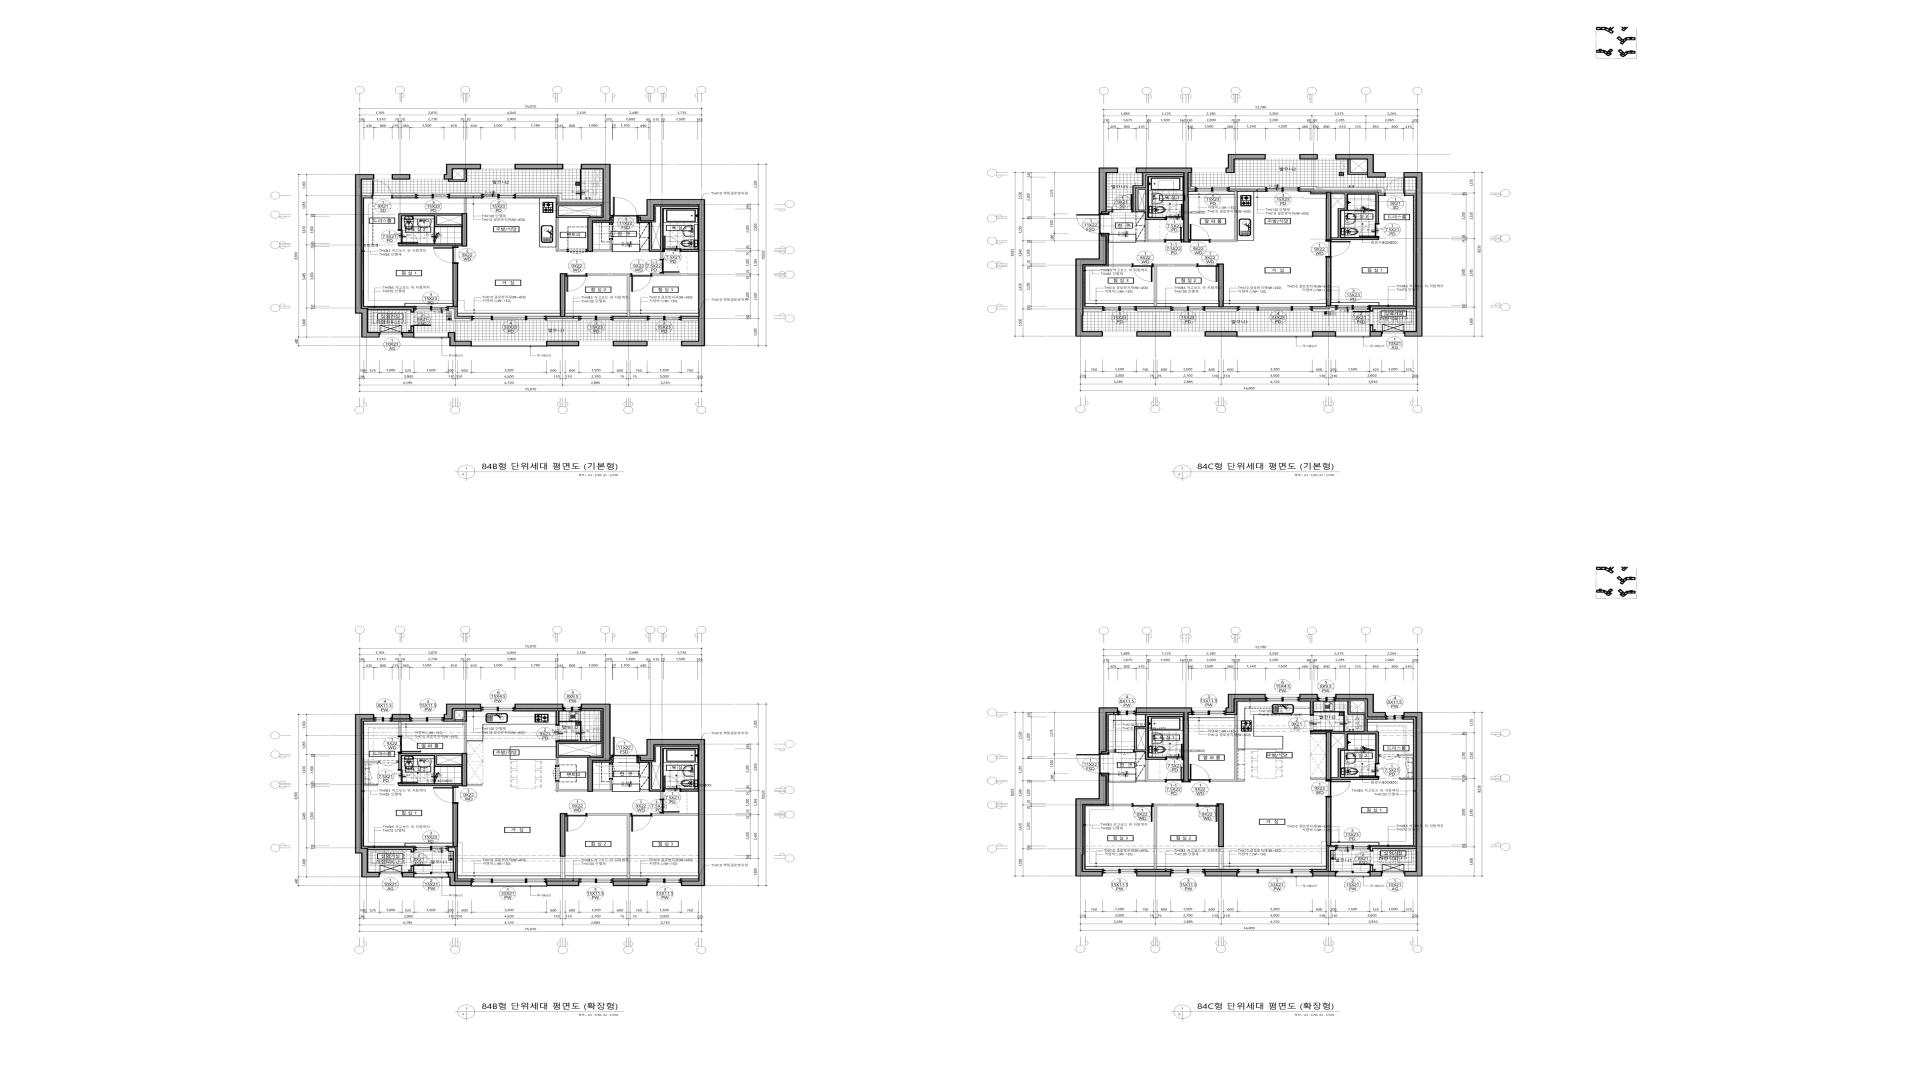door: (1076, 214, 1109, 233), (1076, 754, 1109, 774), (613, 196, 637, 218), (1325, 779, 1352, 798), (433, 786, 459, 804), (613, 737, 637, 757), (433, 247, 459, 264), (1325, 240, 1350, 257), (1188, 764, 1211, 782), (397, 736, 421, 753), (1385, 178, 1406, 196), (1197, 264, 1218, 282), (1133, 264, 1154, 282), (1112, 194, 1133, 212), (1189, 224, 1211, 243), (1197, 803, 1218, 822), (630, 814, 651, 832), (566, 814, 587, 832), (1133, 803, 1154, 822), (630, 273, 651, 291), (566, 273, 587, 291), (372, 181, 393, 199), (1309, 715, 1333, 731), (555, 725, 579, 741), (1353, 311, 1374, 326), (1353, 851, 1374, 865), (410, 852, 431, 866), (397, 769, 418, 783), (397, 229, 418, 244), (663, 775, 680, 793), (1166, 766, 1183, 783), (1166, 744, 1183, 761), (1164, 227, 1183, 243), (1360, 223, 1379, 237), (659, 799, 679, 814), (659, 260, 679, 274), (1166, 204, 1183, 220), (663, 236, 680, 252), (1360, 764, 1379, 777), (1379, 754, 1399, 760), (1114, 749, 1134, 754), (609, 764, 616, 779), (378, 761, 398, 766), (567, 249, 587, 255), (553, 766, 559, 781)
wall: (637, 199, 705, 347), (637, 738, 705, 886), (1135, 707, 1192, 782), (1135, 167, 1192, 243), (355, 174, 380, 338), (355, 713, 380, 877), (1134, 715, 1183, 782), (1403, 712, 1423, 877), (1135, 174, 1183, 243), (1075, 233, 1106, 336), (1075, 774, 1106, 877), (1403, 173, 1423, 336), (640, 746, 699, 799), (580, 164, 613, 252), (580, 704, 613, 793), (1332, 719, 1379, 779), (587, 814, 630, 878), (1154, 804, 1197, 869), (640, 207, 699, 252), (1332, 191, 1379, 240), (1211, 715, 1245, 782), (555, 204, 601, 252), (1154, 264, 1197, 306), (587, 274, 630, 316), (1211, 191, 1237, 243), (1336, 694, 1386, 717), (1336, 154, 1386, 178), (555, 741, 601, 766), (398, 214, 462, 229), (398, 753, 462, 769), (1098, 707, 1118, 754), (1098, 167, 1118, 214), (1225, 694, 1266, 713), (516, 193, 603, 202), (1225, 154, 1266, 173), (1300, 186, 1385, 194), (443, 164, 481, 179), (443, 704, 481, 720), (455, 711, 467, 753), (448, 332, 472, 347), (448, 872, 472, 886), (1325, 257, 1332, 306), (1325, 191, 1332, 240), (556, 781, 587, 791), (1325, 798, 1332, 845), (1325, 732, 1332, 779), (1348, 160, 1367, 175), (448, 309, 471, 322), (559, 273, 566, 316), (559, 814, 566, 857), (514, 164, 563, 169), (514, 704, 563, 709), (448, 169, 467, 182), (452, 264, 458, 307), (1218, 264, 1224, 307), (1218, 803, 1224, 847), (1348, 702, 1365, 715), (452, 804, 458, 847), (593, 779, 612, 791), (593, 240, 612, 252), (1328, 847, 1336, 872), (448, 848, 456, 872), (368, 307, 414, 311), (1370, 307, 1416, 311), (1370, 847, 1416, 851), (368, 848, 414, 852), (613, 342, 647, 347), (1204, 331, 1238, 336), (1137, 331, 1171, 336), (613, 881, 647, 886), (1137, 872, 1171, 877), (546, 342, 579, 347), (462, 214, 467, 247), (1205, 872, 1238, 877), (462, 753, 467, 786), (546, 881, 579, 886), (398, 244, 462, 247), (398, 783, 462, 786), (1312, 331, 1336, 336), (1312, 872, 1336, 877), (651, 814, 699, 816), (392, 713, 410, 720), (1218, 847, 1224, 869), (392, 174, 410, 179), (1229, 186, 1266, 189), (1299, 694, 1317, 699), (1299, 154, 1317, 160), (1137, 309, 1171, 311), (613, 319, 647, 322), (1313, 307, 1336, 311), (450, 193, 481, 195), (1205, 309, 1237, 311), (560, 857, 564, 878), (547, 319, 579, 322), (402, 332, 414, 338), (1109, 264, 1133, 266), (1370, 331, 1382, 336), (1370, 872, 1382, 877), (402, 872, 414, 877), (651, 274, 699, 276), (393, 193, 415, 195), (555, 711, 559, 725), (1084, 309, 1102, 311), (680, 789, 699, 791), (680, 249, 699, 252), (361, 193, 372, 196), (1311, 191, 1327, 194), (682, 319, 698, 322), (398, 721, 401, 736), (1311, 700, 1313, 715), (1311, 732, 1325, 735), (1109, 804, 1133, 806), (1406, 191, 1416, 194), (410, 326, 414, 332), (1109, 749, 1114, 753), (410, 866, 414, 872), (661, 252, 663, 260), (1399, 754, 1414, 756), (1311, 778, 1325, 779), (1399, 778, 1414, 779), (364, 761, 378, 762), (1370, 865, 1373, 872), (364, 785, 377, 786), (1370, 326, 1373, 331), (1106, 207, 1112, 210), (1191, 186, 1195, 189), (609, 762, 613, 764), (609, 223, 612, 224)
window: (1238, 869, 1312, 877), (471, 315, 547, 320), (1237, 306, 1313, 311), (472, 878, 546, 884), (1238, 332, 1312, 338), (472, 342, 546, 347), (472, 884, 546, 887), (579, 878, 613, 886), (647, 878, 680, 886), (481, 704, 514, 712), (1192, 708, 1225, 716), (414, 872, 448, 878), (1102, 869, 1137, 876), (1336, 870, 1370, 877), (414, 332, 448, 339), (410, 715, 443, 721), (1171, 869, 1204, 876), (1266, 695, 1299, 702), (647, 315, 682, 320), (579, 315, 613, 320), (414, 845, 448, 851), (1336, 332, 1370, 338), (1336, 305, 1370, 310), (1171, 306, 1205, 311), (1102, 306, 1137, 311), (1266, 187, 1300, 193), (1195, 187, 1229, 193), (414, 306, 448, 311), (481, 194, 516, 199), (415, 194, 450, 199), (1266, 154, 1299, 160), (1192, 167, 1225, 173), (410, 174, 443, 179), (563, 704, 580, 712), (1118, 708, 1135, 716), (1336, 845, 1370, 849), (1102, 332, 1137, 336), (579, 342, 613, 345), (647, 342, 680, 345), (1171, 332, 1204, 336), (481, 165, 514, 169), (1317, 695, 1336, 702), (1382, 331, 1404, 336), (380, 872, 402, 877), (1382, 870, 1404, 876), (380, 332, 402, 338), (375, 715, 392, 721), (1317, 154, 1336, 160), (1118, 167, 1135, 173), (375, 174, 392, 179), (1386, 715, 1403, 720), (1386, 173, 1403, 177), (563, 165, 580, 169)
